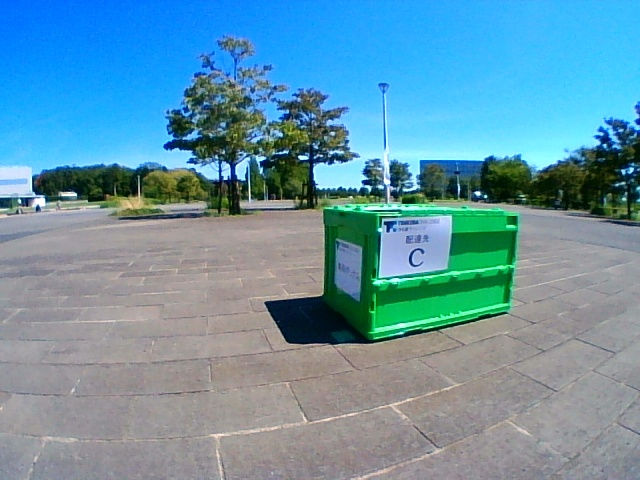green_box: (323, 203, 519, 339)
tag_c: (385, 219, 446, 270)
